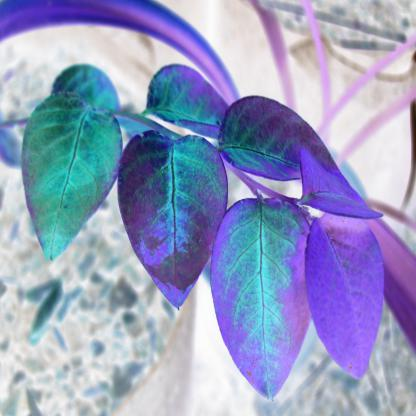Blueberry leaf: (119, 119, 229, 330), (208, 191, 317, 403), (18, 88, 124, 287), (306, 203, 386, 387), (215, 85, 358, 186), (142, 55, 235, 142)
